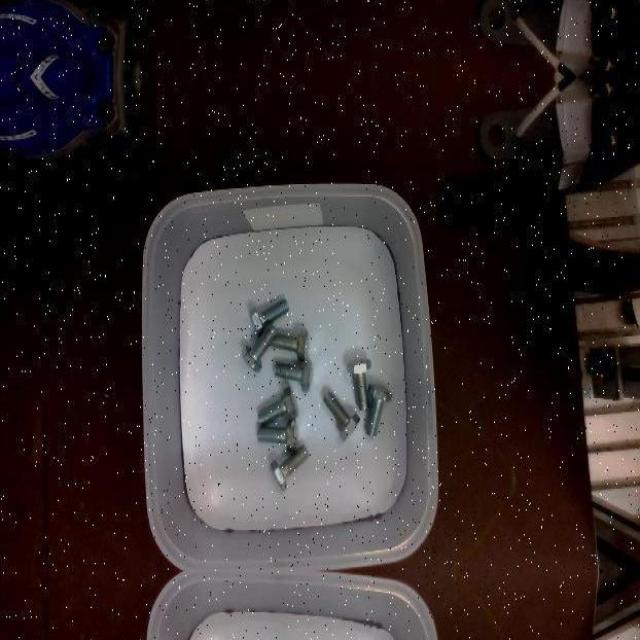screw: (270, 444, 310, 492), (322, 392, 360, 441), (243, 323, 278, 373), (258, 385, 298, 426), (364, 383, 393, 436), (258, 417, 298, 451), (275, 359, 314, 392), (348, 357, 372, 409)
